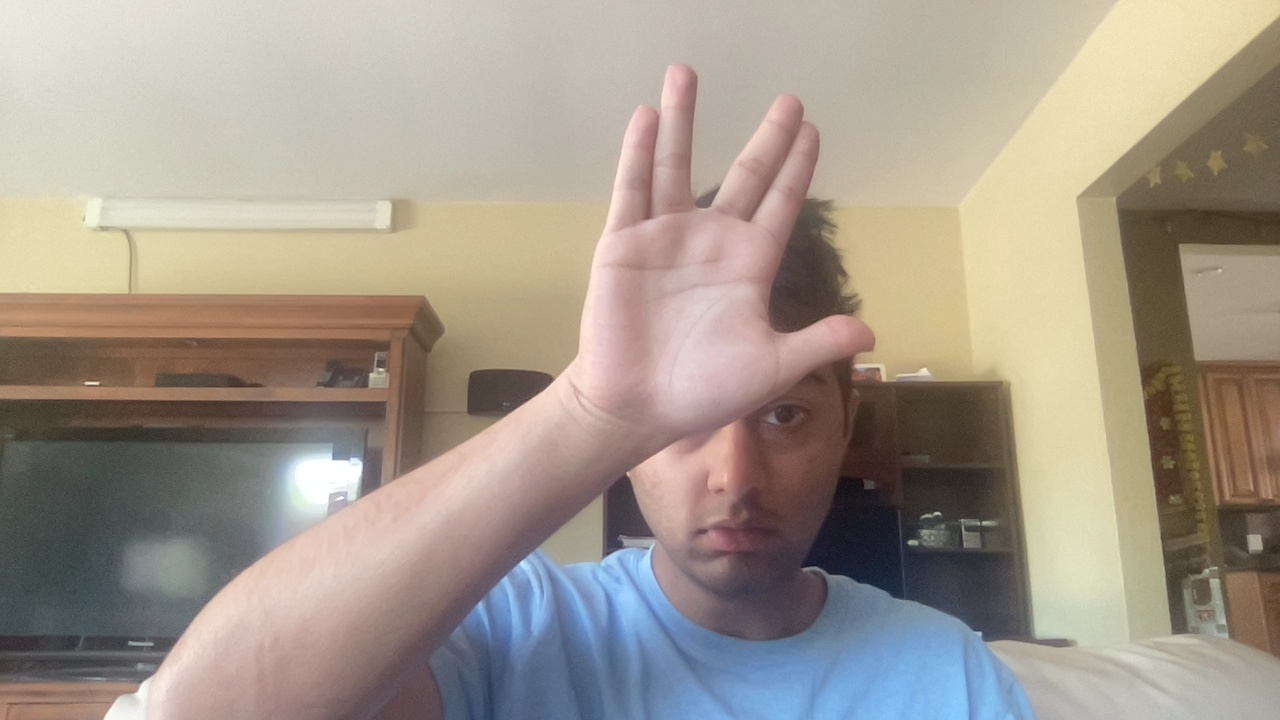LiveLong: (579, 60, 874, 429)
